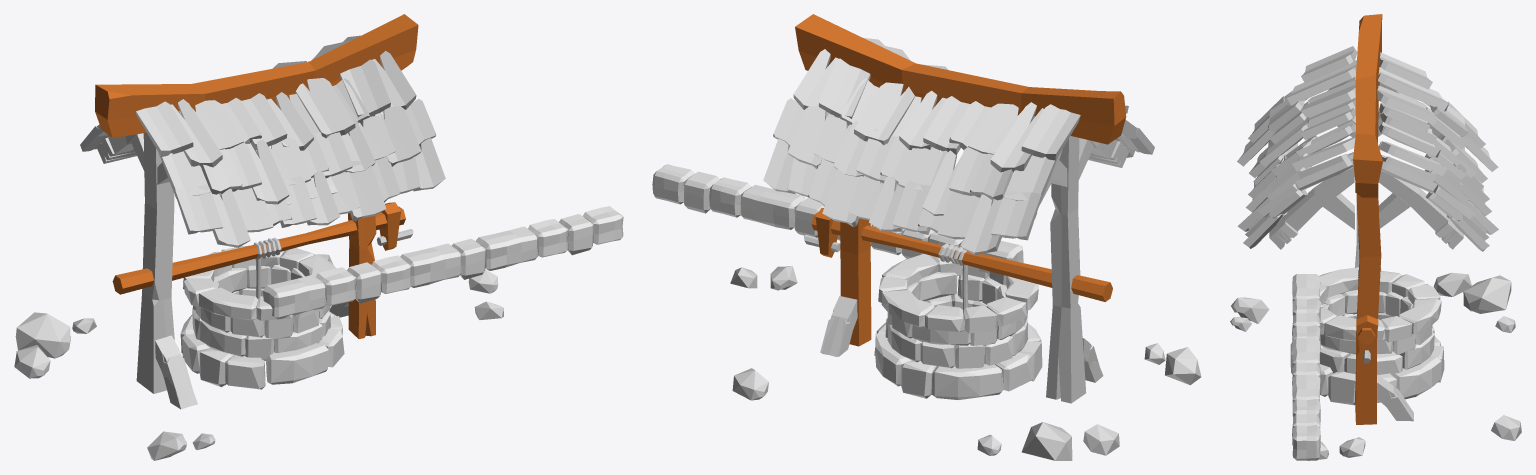
The model's file is well.fbx.
The picture shows the model from 3 angles, left to right: view 1: azimuth 30°, elevation 25°; view 2: azimuth 150°, elevation 25°; view 3: azimuth 270°, elevation 25°; orthographic projection. The views are drawn at different scales.
Visible parts, largest first — view 1: Cube.021, Cube.005, Cube, Cube.003, Cube.002, Cylinder, Cube.001, Cube.122, Cube.004, Cube.010, Cube.016, Cube.115 (+41 smaller); view 2: Cube.021, Cube.005, Cube.003, Cube, Cube.002, Cube.001, Cylinder, Cube.004, Cube.089, Cube.016, Cube.082, Cube.090 (+41 smaller); view 3: Cube.003, Cube.021, Cube.004, Cube, Cube.002, Cube.001, Cube.007, Icosphere, Cube.023, Cube.116, Cube.083, Cube.019 (+59 smaller).
Boxes of the visible parts, x1,y1,x2,y2 form: Cube.021: (95,14,418,137); Cube.005: (136,132,174,393); Cube: (180,312,344,389); Cube.003: (183,245,335,320); Cube.002: (193,264,330,339); Cylinder: (112,206,405,294); Cube.001: (192,288,330,360); Cube.122: (295,78,355,138); Cube.004: (348,213,376,338); Cube.010: (263,275,326,319); Cube.016: (476,226,538,270); Cube.115: (136,101,193,156); Cube.021: (795,14,1126,144); Cube.005: (1046,136,1086,403); Cube.003: (878,254,1038,333); Cube: (874,322,1042,399); Cube.002: (887,272,1027,345); Cube.001: (885,291,1028,368); Cylinder: (811,211,1112,301); Cube.004: (840,218,871,346); Cube.089: (854,82,914,145); Cube.016: (740,184,804,229); Cube.082: (1021,104,1080,160); Cube.090: (819,58,870,118); Cube.003: (1319,267,1441,342); Cube.021: (1353,14,1382,197); Cube.004: (1355,194,1381,424); Cube: (1290,336,1444,405); Cube.002: (1320,290,1432,354); Cube.001: (1320,312,1434,375); Cube.007: (1284,167,1354,231); Icosphere: (1463,275,1511,313); Cube.023: (1378,171,1448,231); Cube.116: (1285,60,1356,105); Cube.083: (1378,67,1448,111); Cube.019: (1292,425,1320,460).
Size of what is drawn, in the model's own units: 763 by 454 by 392.
